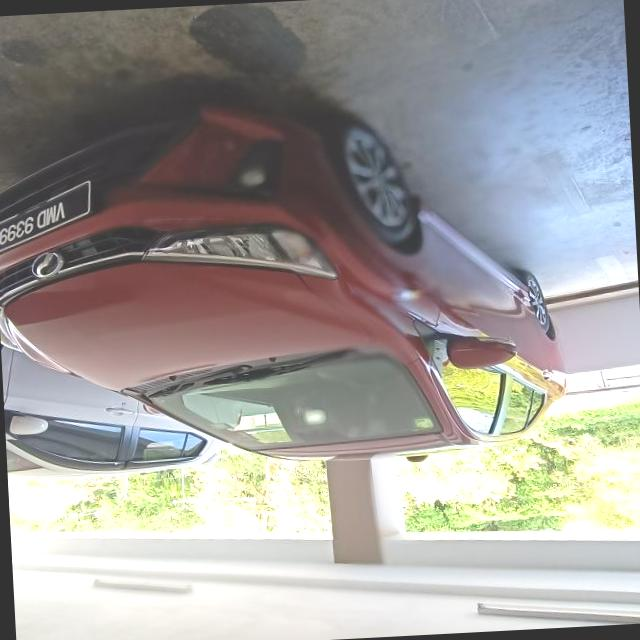PeroduaBezza: (0, 85, 571, 482)
